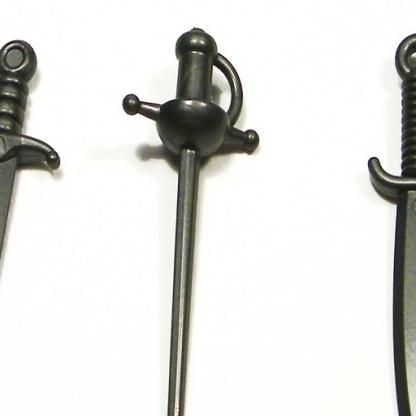knife: (0, 36, 67, 415), (365, 27, 415, 415)
